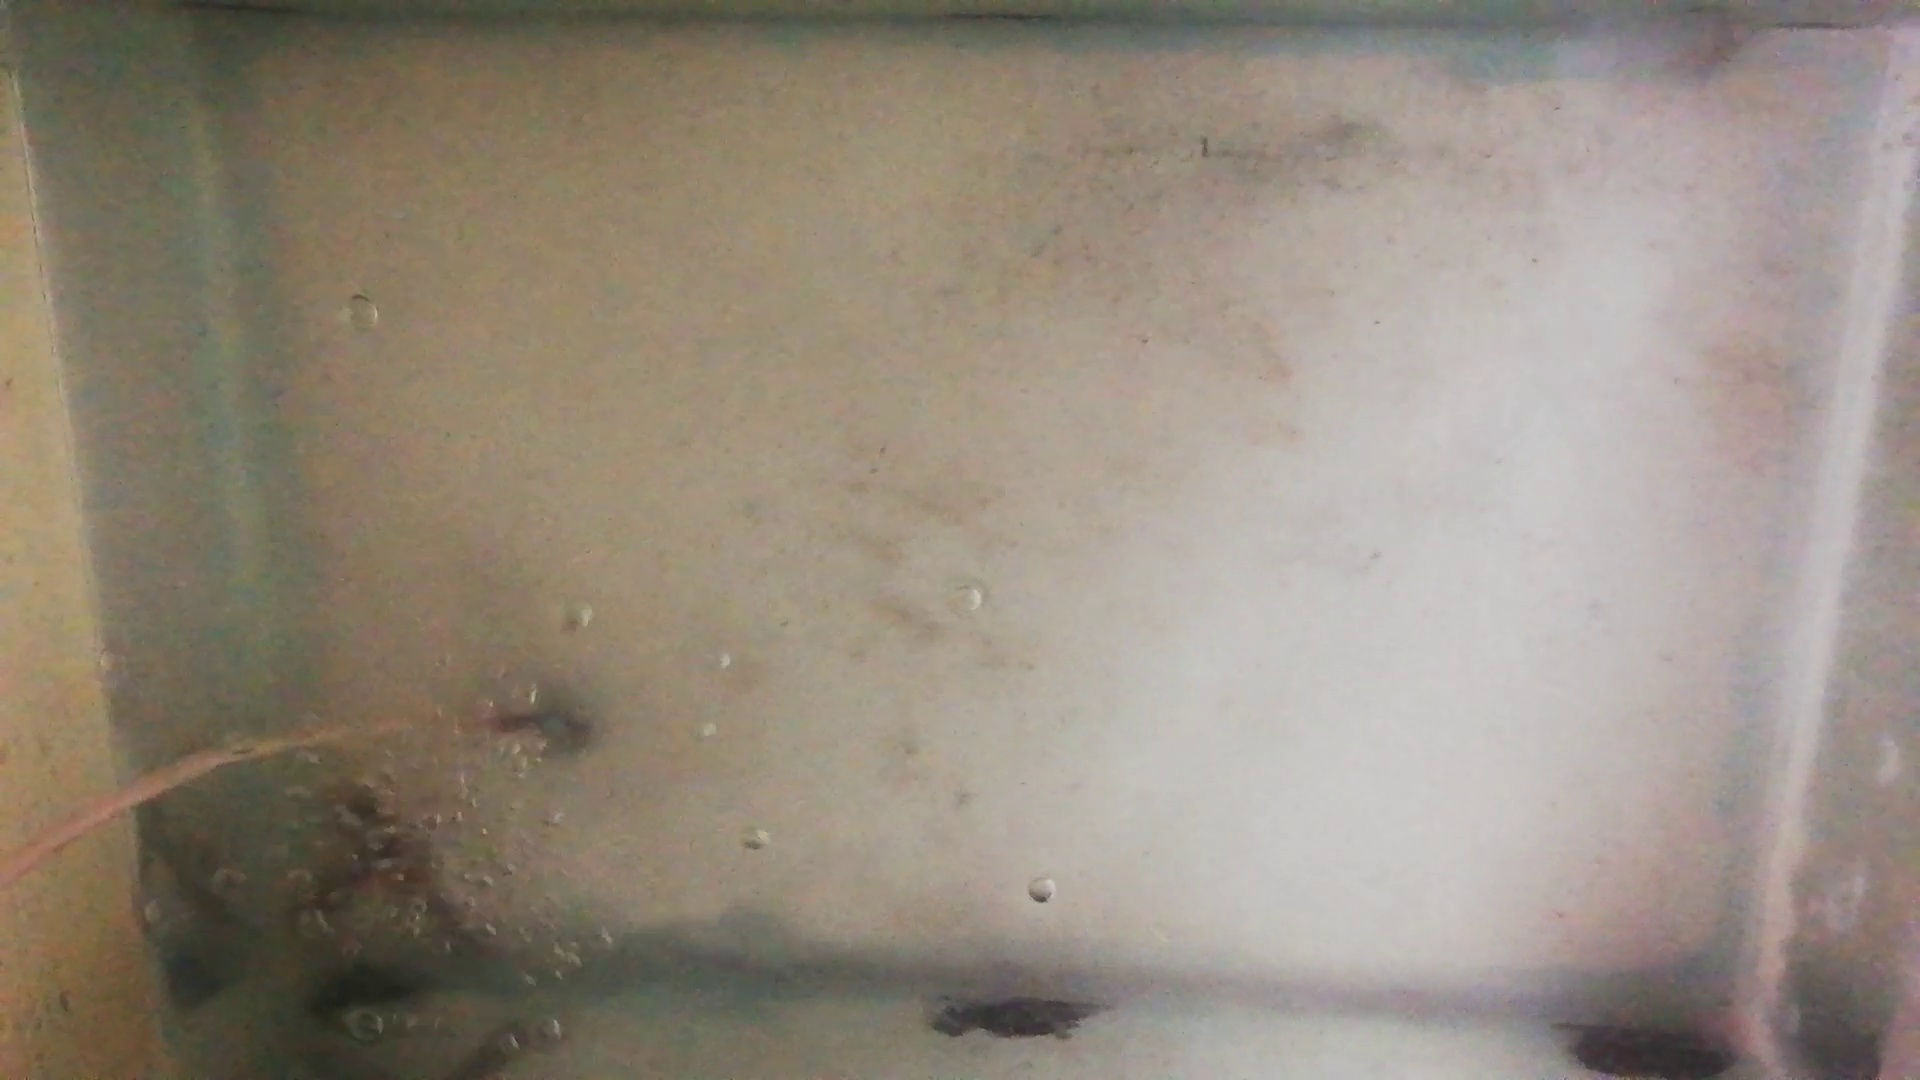fish: (336, 773, 493, 953), (293, 847, 438, 928)
